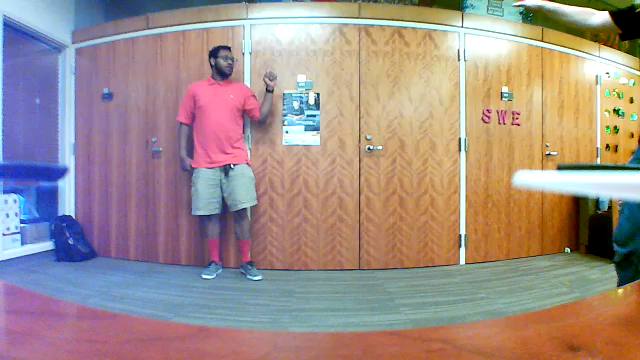up: (262, 58, 280, 101)
